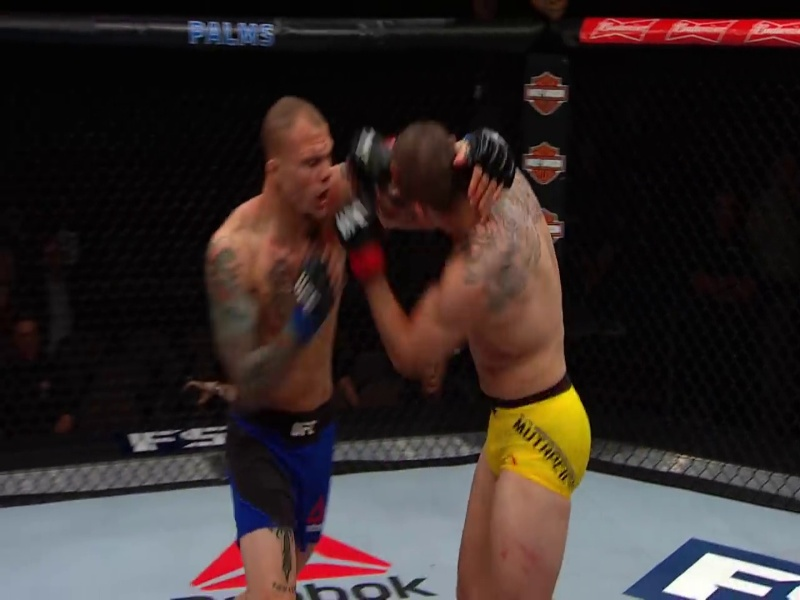fighter: (197, 94, 513, 600), (329, 111, 597, 600)
